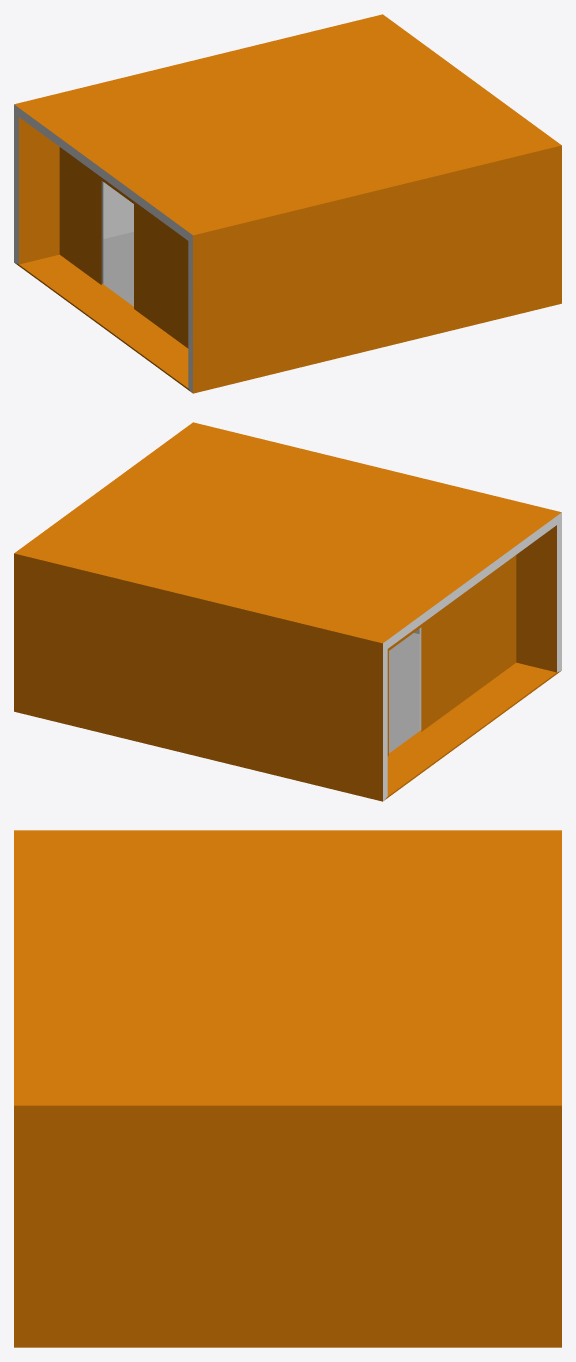
File: Middle_Room.fbx
3 views of the same model, one above another, from view 1: azimuth 30°, elevation 25°; view 2: azimuth 150°, elevation 25°; view 3: azimuth 270°, elevation 25° (orthographic). The views are drawn at different scales.
Visible parts, largest first — view 1: STR_Middle_Room; view 2: STR_Middle_Room; view 3: STR_Middle_Room.
Part boxes in pixels (<box>): STR_Middle_Room: <box>14,14,561,393</box>; STR_Middle_Room: <box>14,422,561,801</box>; STR_Middle_Room: <box>14,830,561,1347</box>.
Size of the model in its own units: 875 by 359 by 736.
